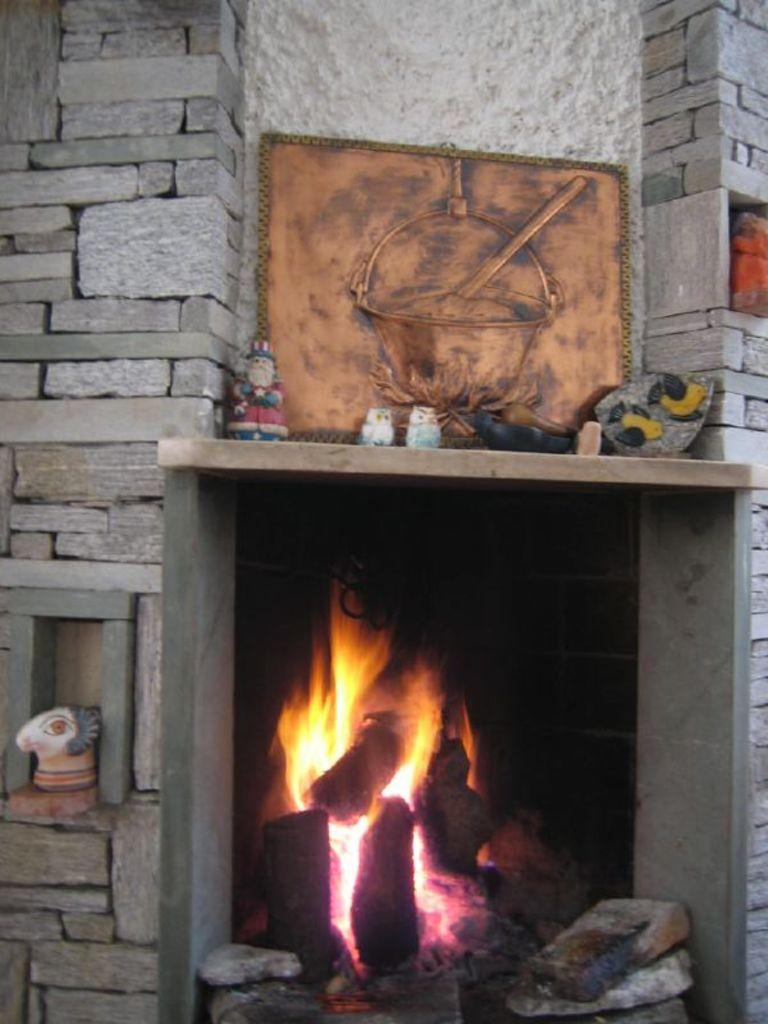fire: (267, 624, 492, 954)
